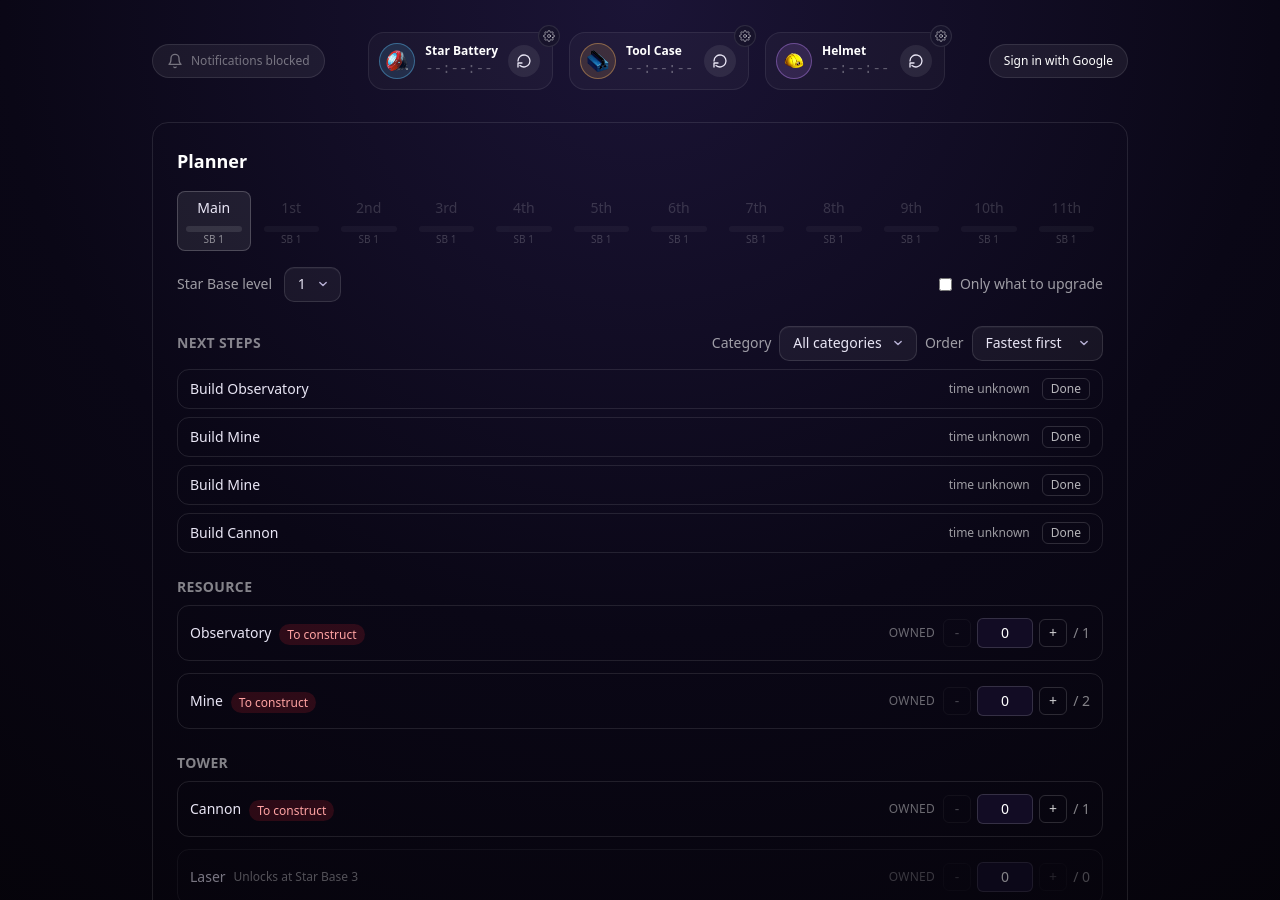
Test: App › Planner › Buildings › adds an instance at level 1 when the count is raised with the button
The width and height of the screenshot is (1280, 900).
Click the button named "Increase Mine owned" at (1053, 701), box [1039,687,1067,715]
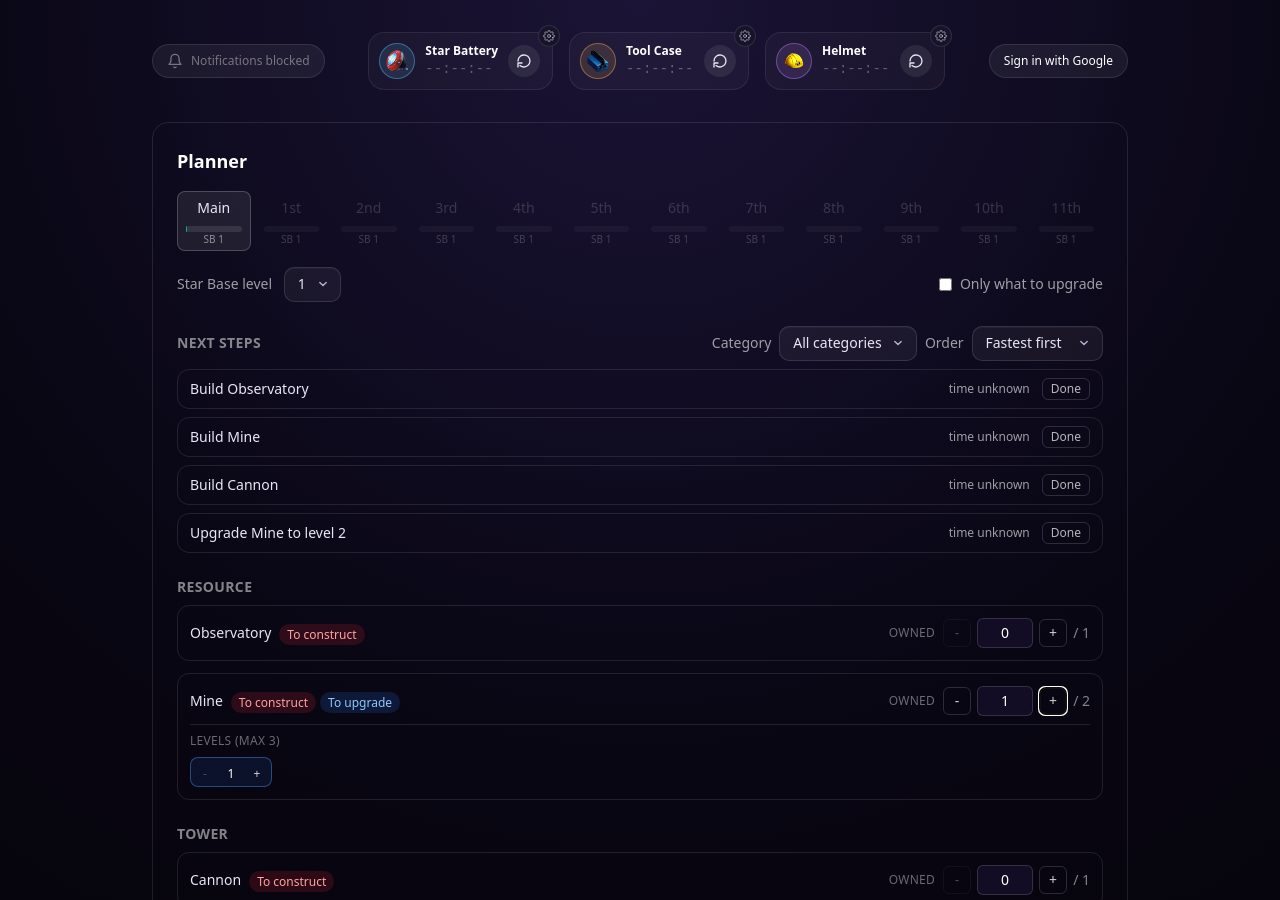
Check: the number field named "Mine owned" holds "1", box [977,686,1033,716]
